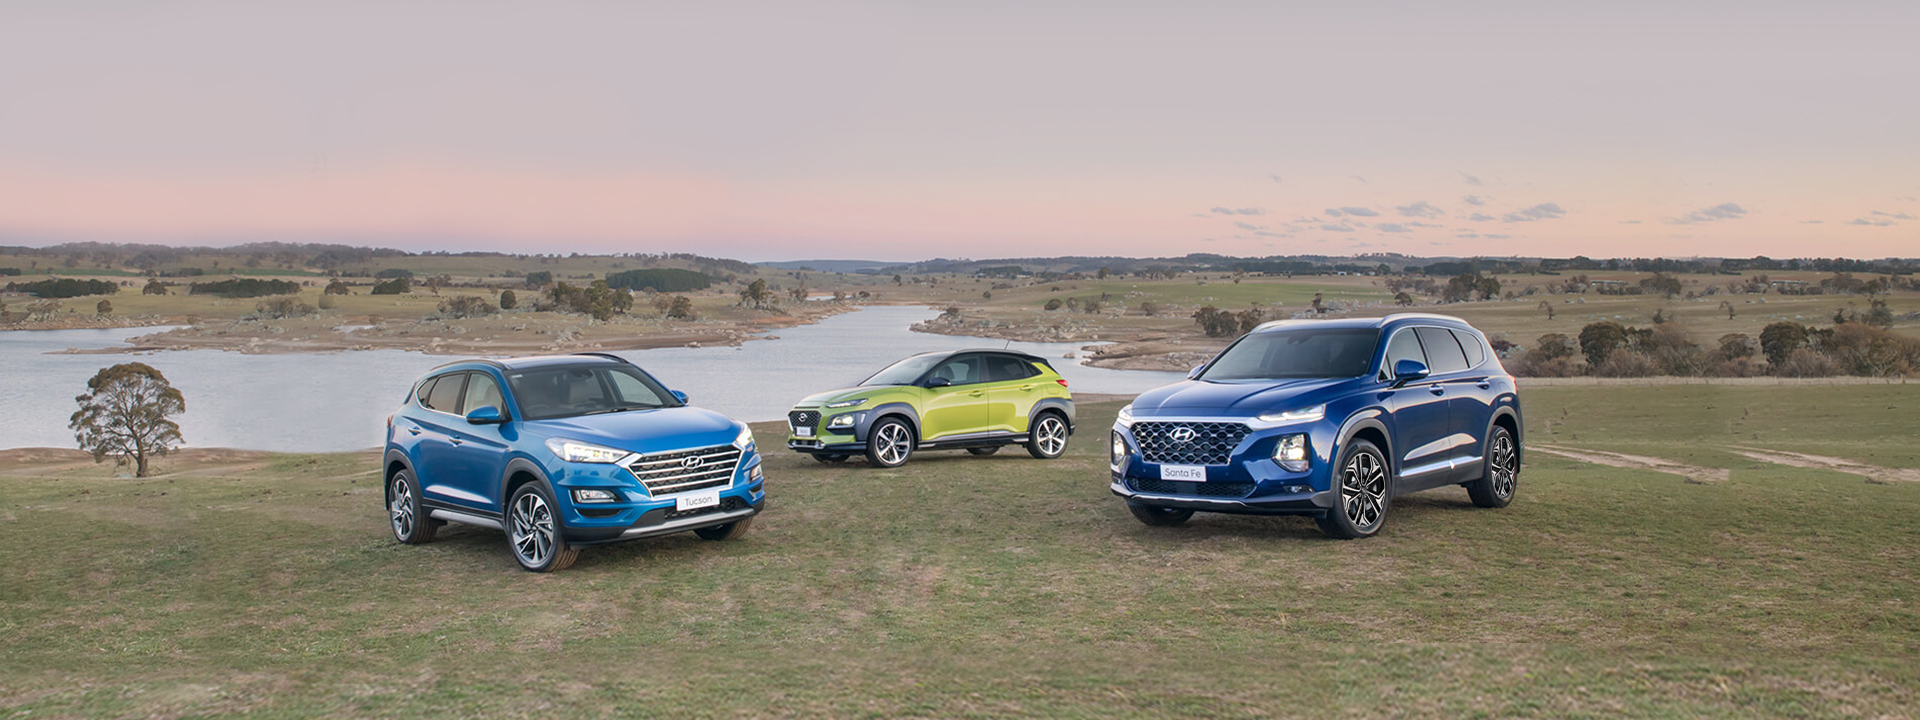car: (1107, 313, 1524, 539), (381, 351, 768, 571), (784, 350, 1076, 469)
